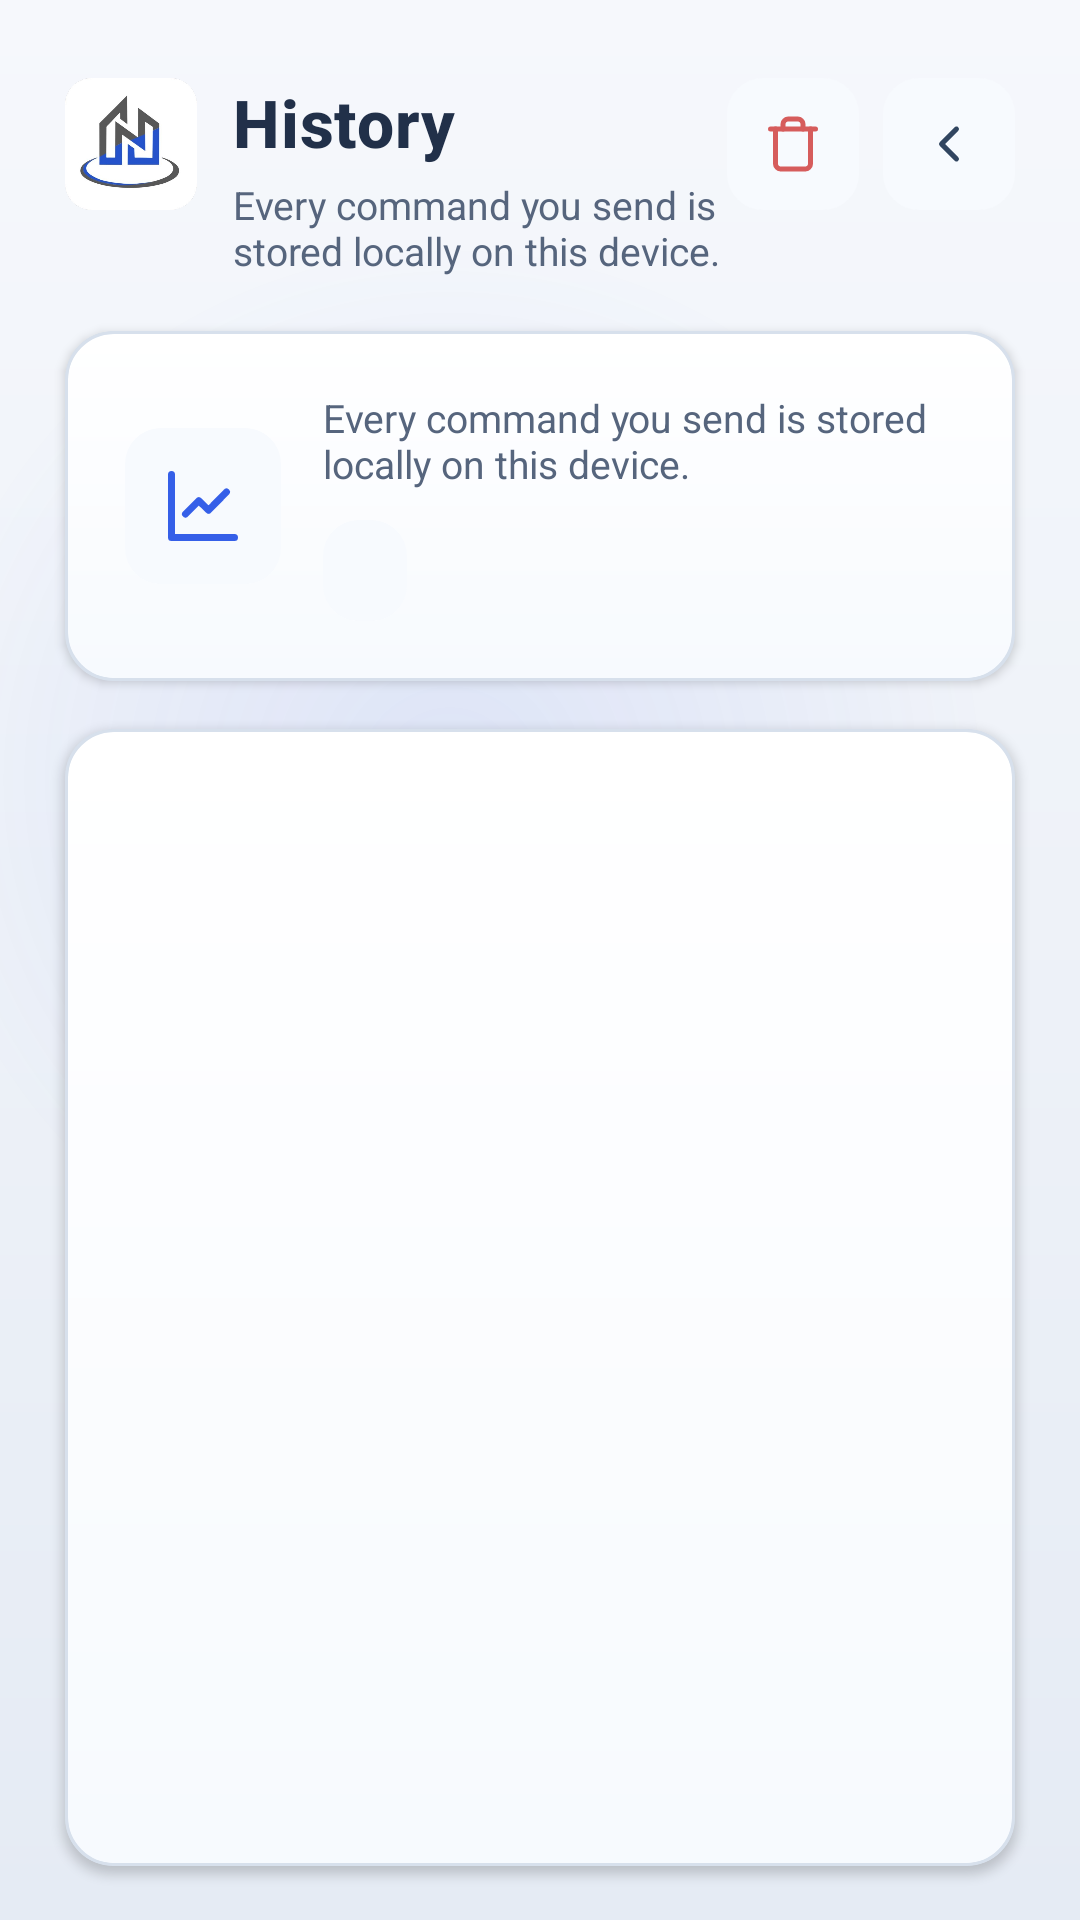

Named icons in this screenshot (1080 x 1920) and their centers, [x,y]:
Go back: [949,144]
